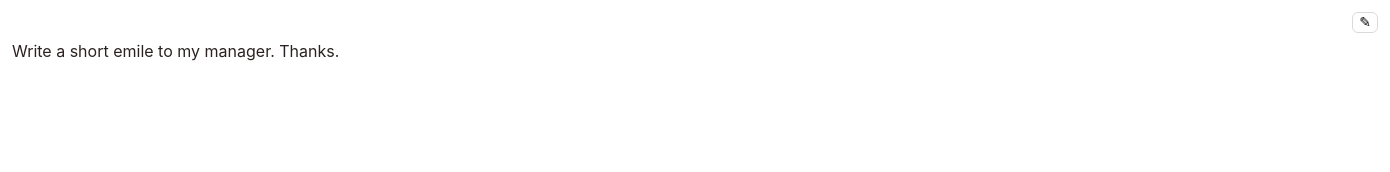
Test: TranscriptView › word fixing › Esc keeps the original and sends no replacement
Double-click the button with aria-label "Edit word emile" at (133, 51), box [113,41,154,61]
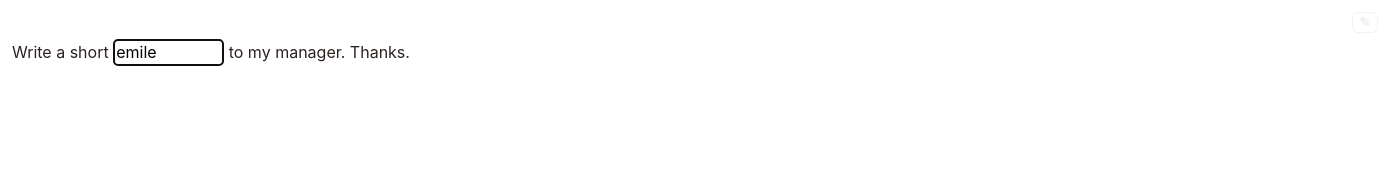
Type "zzz" into the field. click: (169, 53)
box: [113,39,224,66]
Then press Escape
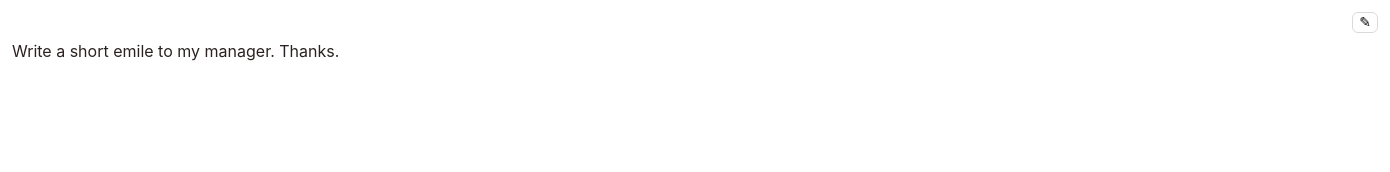
Result: the button with aria-label "Edit word emile" is shown at [113,41,154,61]
